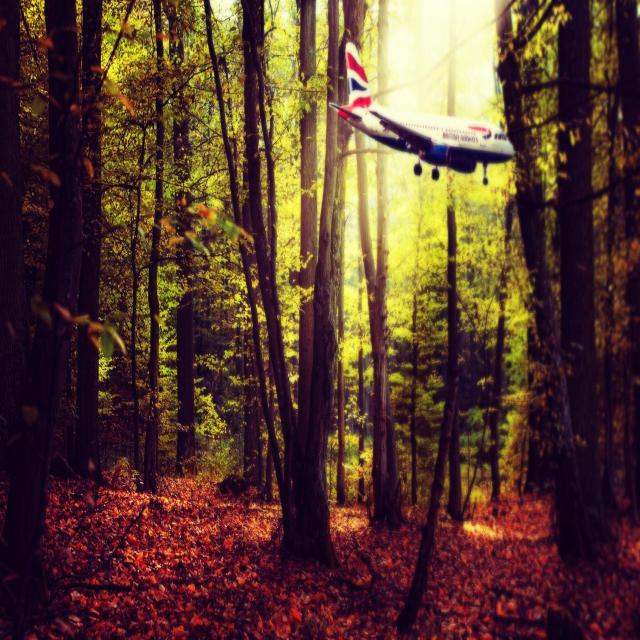airplane: (328, 40, 515, 185)
